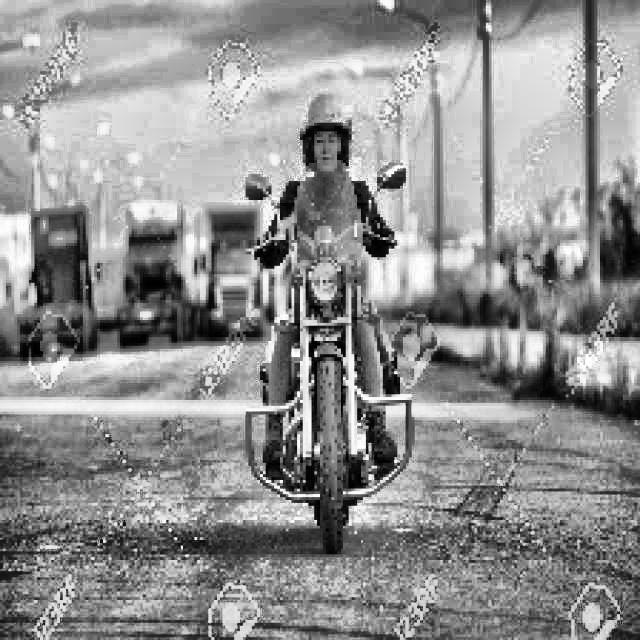motorcycle: (243, 150, 435, 560)
